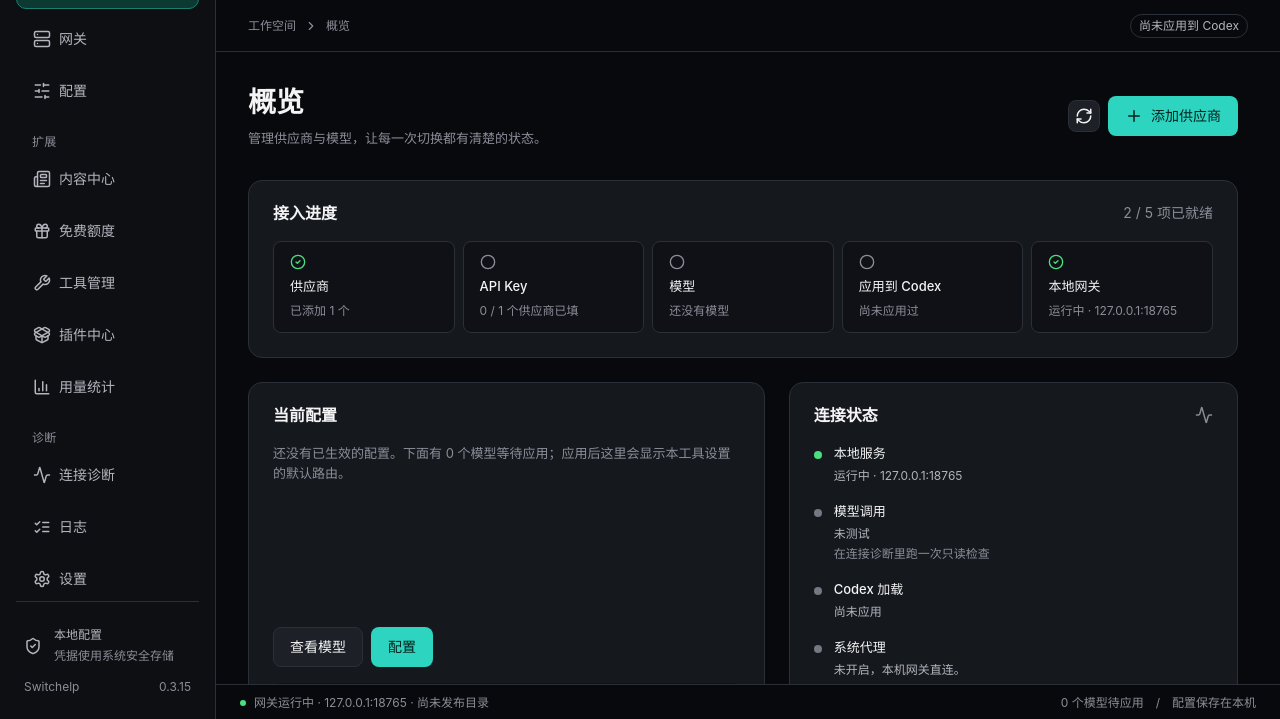
it: 语言切换 › 切到英文后侧栏、页标题与设置页一起换语言
(page scrolled)
Click the button "设置".
click(108, 579)  # box top-left (16, 557), bottom-right (199, 601)
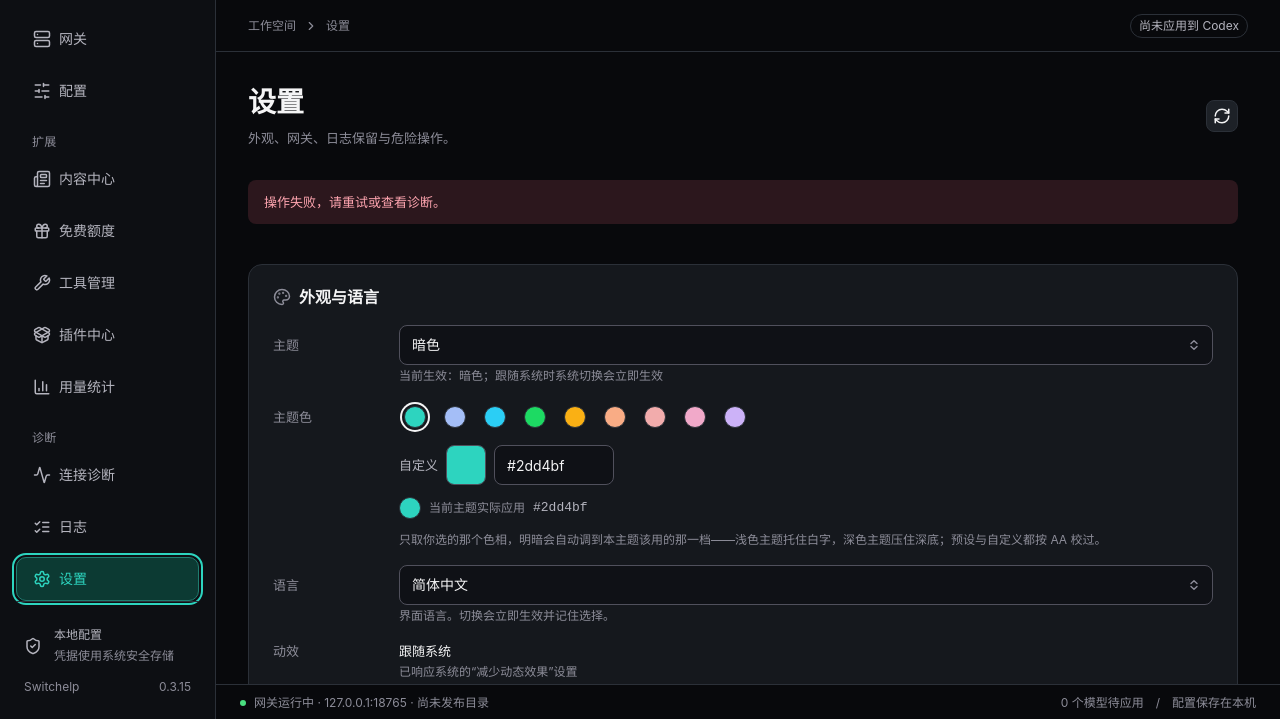
Select "English" in the dropdown named "语言" at [806, 585], box top-left (399, 565), bottom-right (1213, 605)
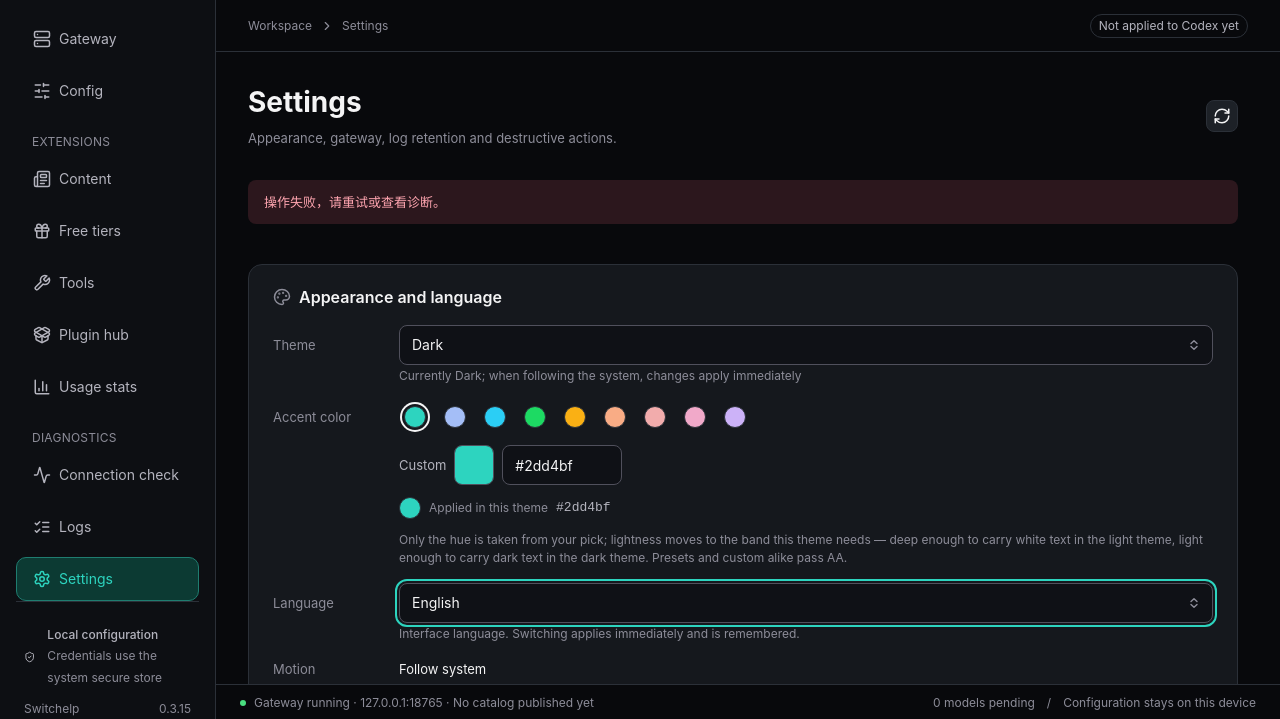
Expected: the heading "Settings" is shown, top-left (248, 85), bottom-right (362, 119)
# 切回去同样立即生效。
Select "简体中文" in the dropdown named "Language" at [806, 603], box top-left (399, 583), bottom-right (1213, 623)
(page scrolled)
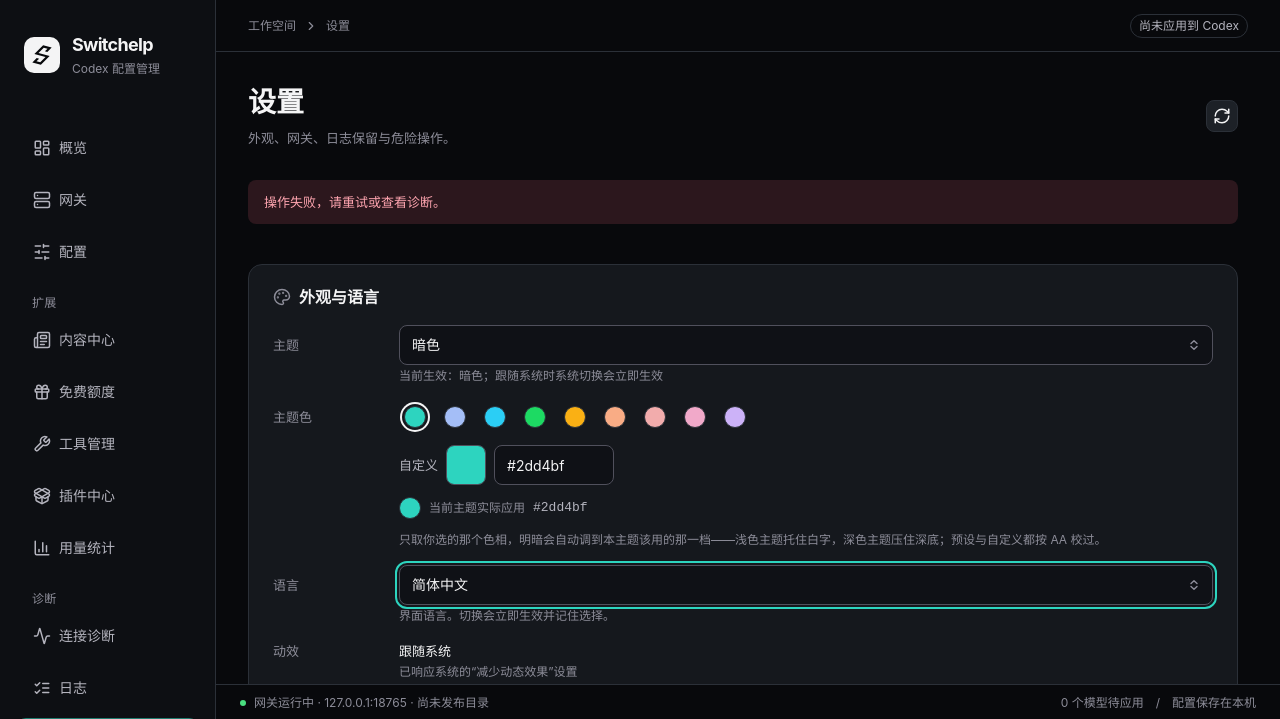
Expected: the button "概览" is shown, top-left (16, 126), bottom-right (199, 170)
